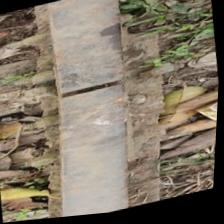person: (40, 37, 152, 145)
